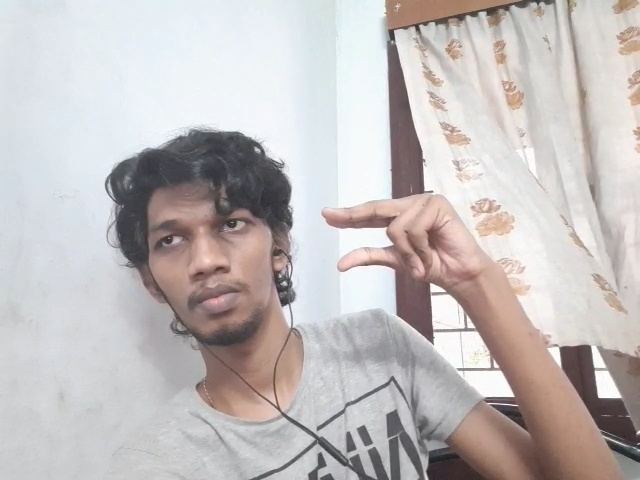No: (320, 190, 495, 289)
